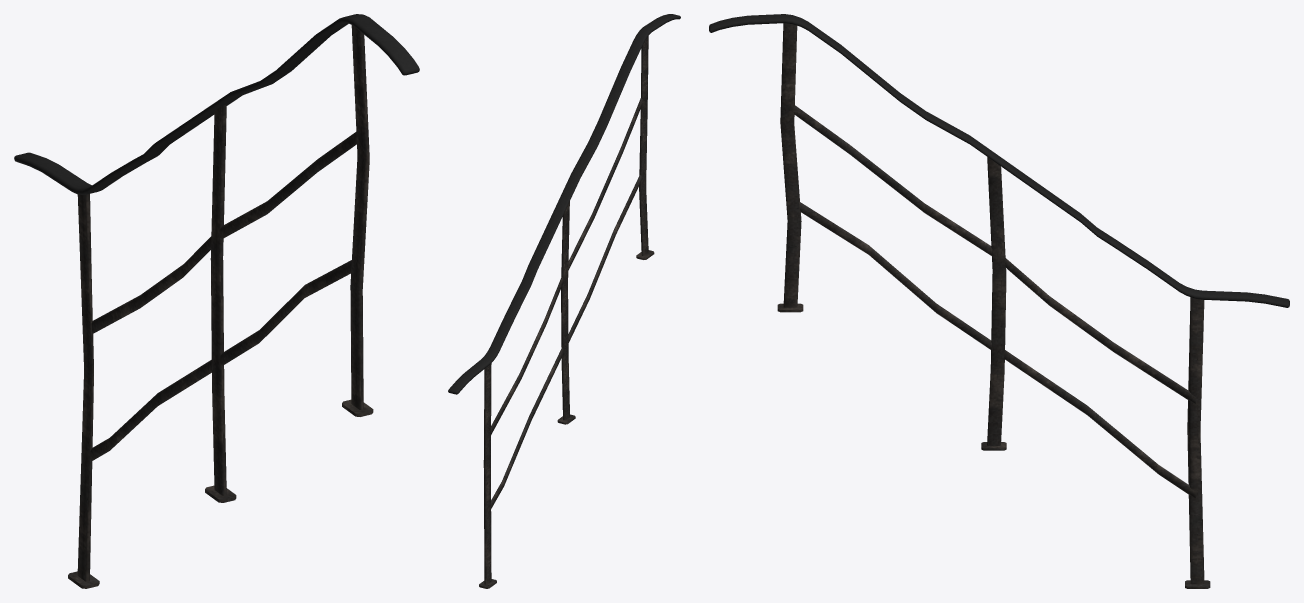
File: hand_rail_1.obj
The picture shows the model from 3 angles, left to right: view 1: azimuth 30°, elevation 25°; view 2: azimuth 150°, elevation 25°; view 3: azimuth 270°, elevation 25°; orthographic projection. The views are drawn at different scales.
Parts seen in each view (by area): view 1: hand_rail_1; view 2: hand_rail_1; view 3: hand_rail_1.
Boxes of the visible parts, box(x1,y1,x2,y2) form: hand_rail_1: box(14, 14, 419, 588); hand_rail_1: box(448, 14, 680, 588); hand_rail_1: box(709, 14, 1289, 588).
Size of the model in its own units: 0.06 by 2.47 by 2.28.
